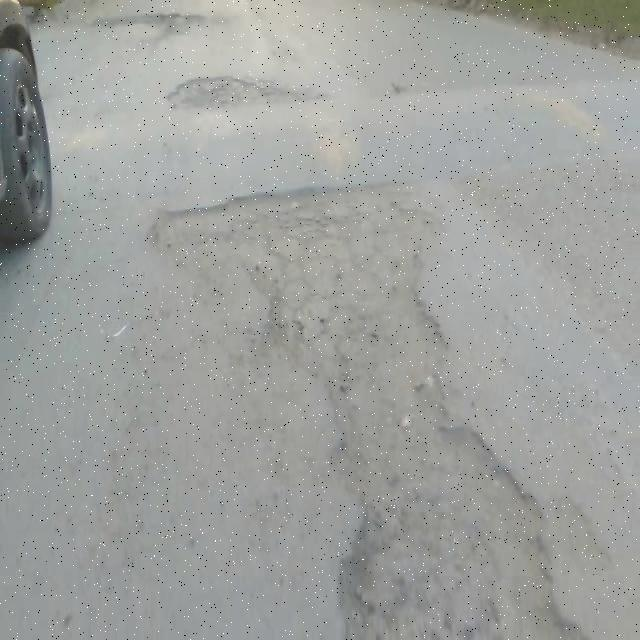pothole: (143, 185, 582, 640), (167, 74, 330, 114)
